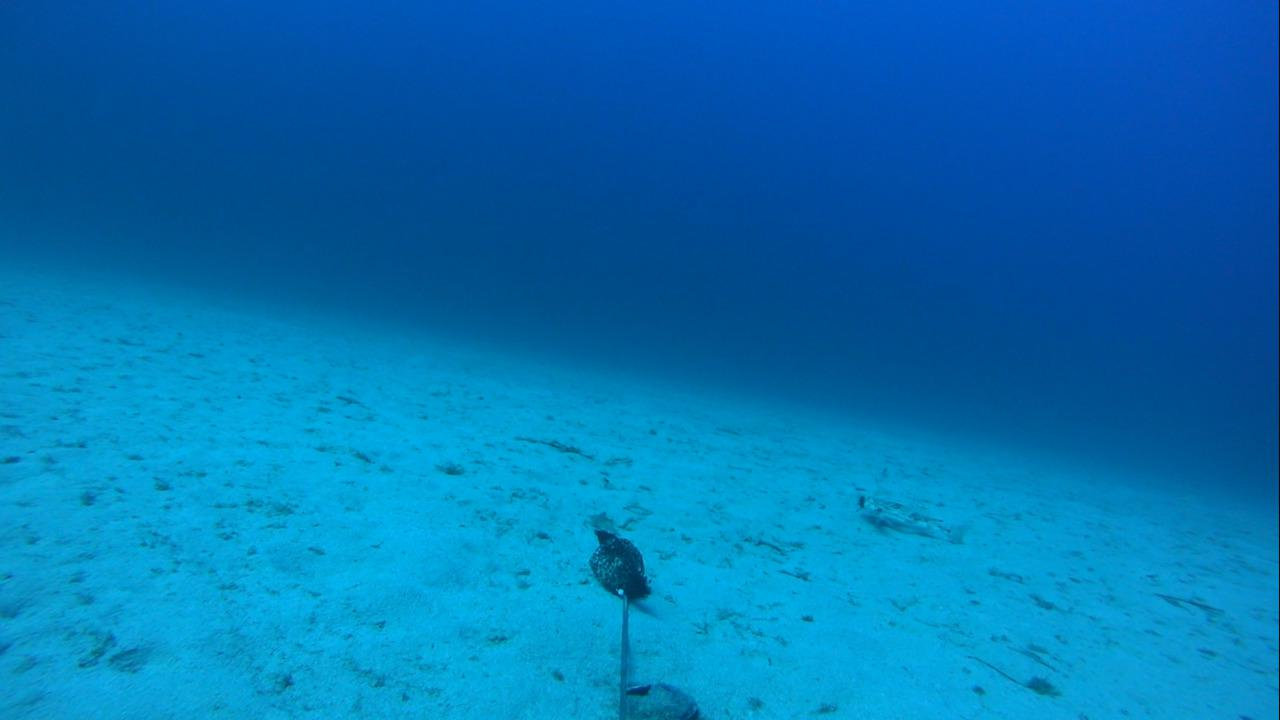dactylopterus: (838, 489, 969, 545)
